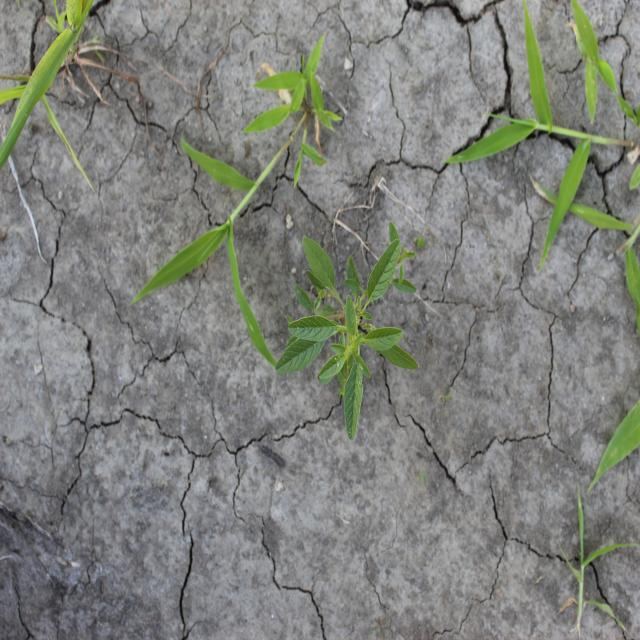Waterhemp: (274, 221, 420, 441)
